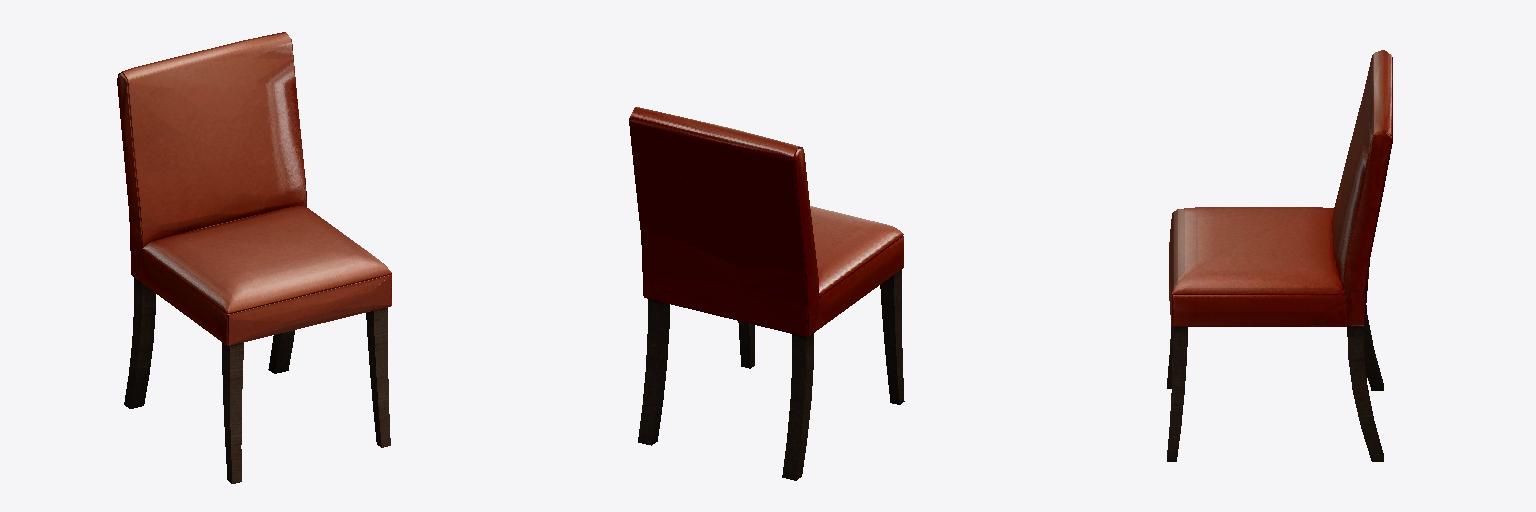
3 views of the same model, side by side, from view 1: azimuth 30°, elevation 25°; view 2: azimuth 150°, elevation 25°; view 3: azimuth 270°, elevation 25° (orthographic).
Visible parts, largest first — view 1: Pullman_Side_Ivory; view 2: Pullman_Side_Ivory; view 3: Pullman_Side_Ivory.
Boxes of the visible parts, box(x1,y1,x2,y2) form: Pullman_Side_Ivory: box(117, 32, 391, 483); Pullman_Side_Ivory: box(629, 107, 904, 480); Pullman_Side_Ivory: box(1167, 50, 1392, 461).
Size of the model in its own units: 0.7941 by 1.48 by 0.9044.
1 materials, 1 textured.